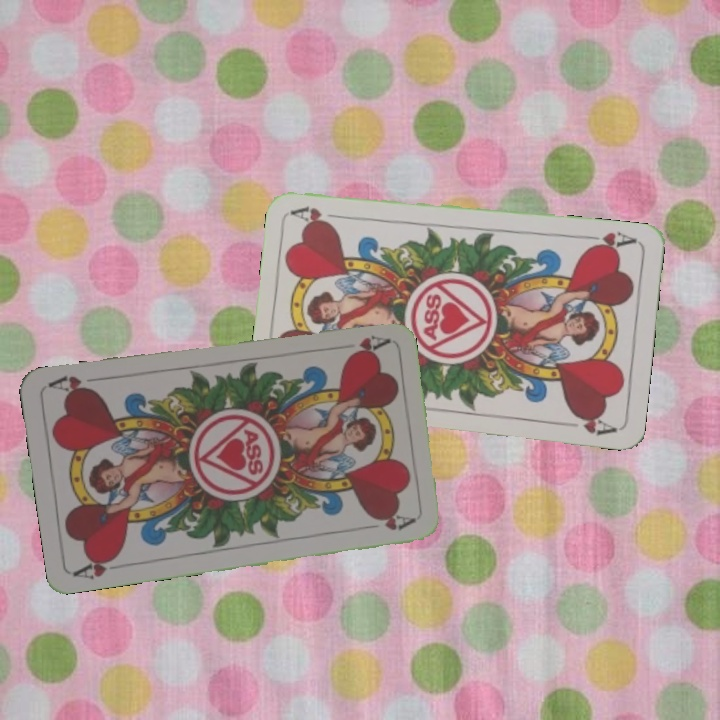HA: (71, 550, 130, 582), (580, 227, 639, 254), (348, 330, 390, 356)
